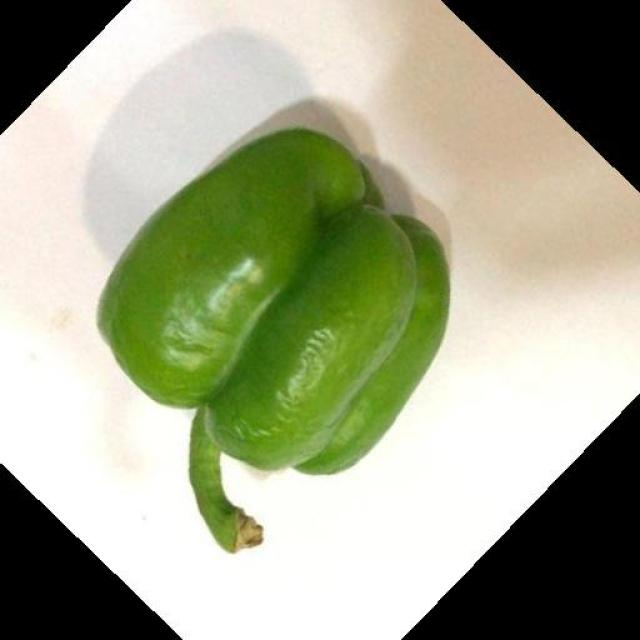Fresh_Capsicum: (119, 131, 454, 565)
